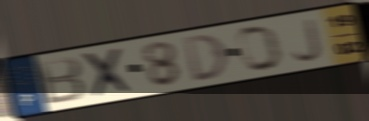8: (141, 40, 184, 89)
B: (34, 55, 88, 107)
D: (181, 32, 231, 84)
J: (290, 16, 324, 63)
O: (236, 24, 285, 73)
X: (78, 45, 137, 101)
